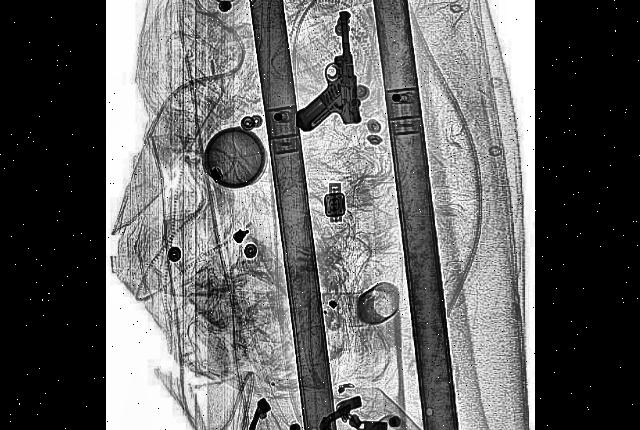Gun: (294, 0, 375, 154)
